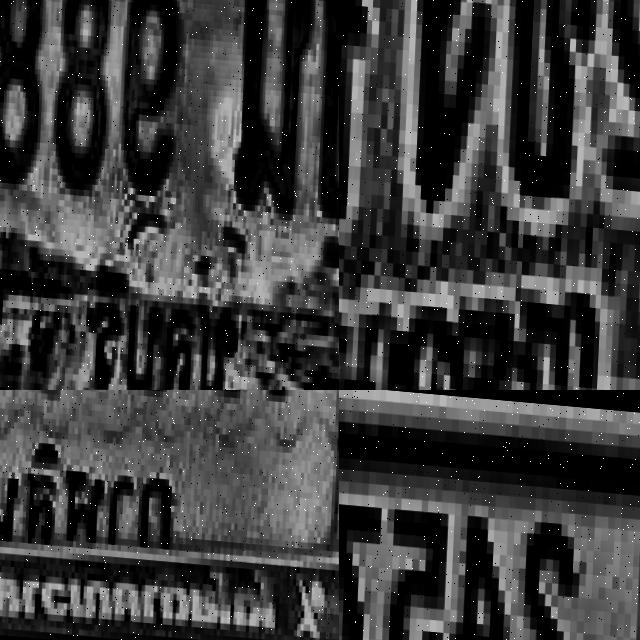license-plate: (0, 0, 339, 390), (339, 0, 640, 390), (0, 390, 339, 640), (339, 415, 640, 640)
